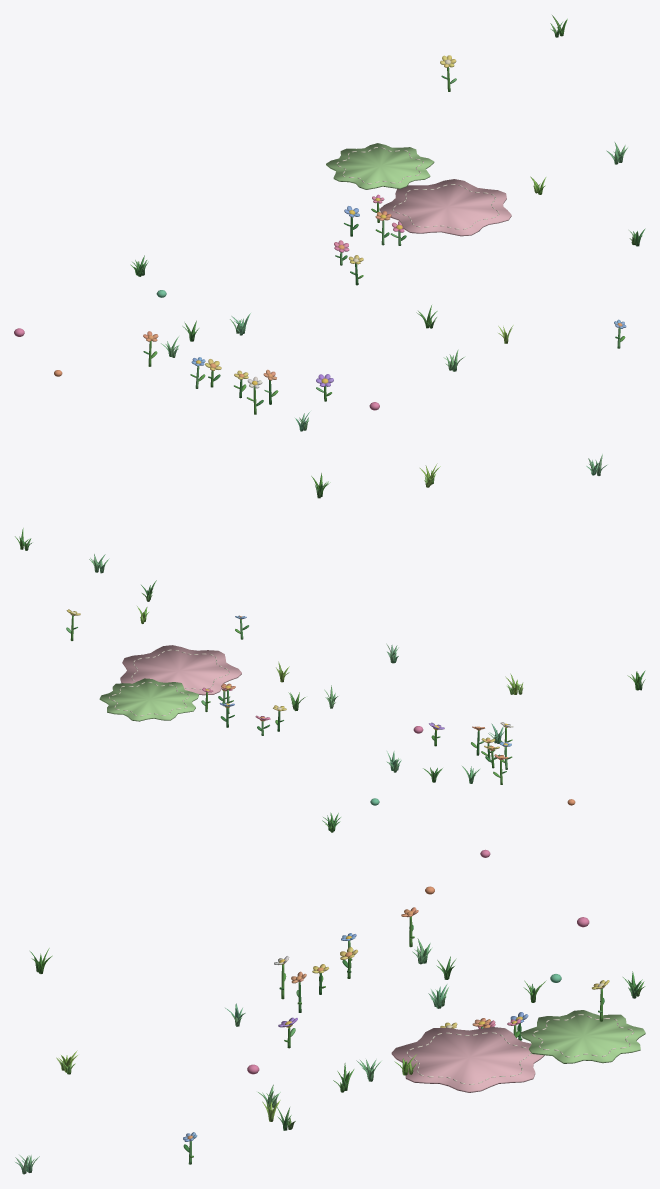
The model's file is W1_FloraRing_10_7.fbx.
3 renders of one model, top to bottom at view 1: azimuth 30°, elevation 25°; view 2: azimuth 150°, elevation 25°; view 3: azimuth 270°, elevation 25°, orthographic. The views are drawn at different scales.
Parts seen in each view (by area): view 1: W1_FloraRing_10_7; view 2: W1_FloraRing_10_7; view 3: W1_FloraRing_10_7.
Part boxes in pixels (<box>): W1_FloraRing_10_7: <box>14,15,645,498</box>; W1_FloraRing_10_7: <box>15,528,645,857</box>; W1_FloraRing_10_7: <box>15,886,645,1174</box>.
Size of the model in its own units: 3.87 by 1.69 by 3.25.
